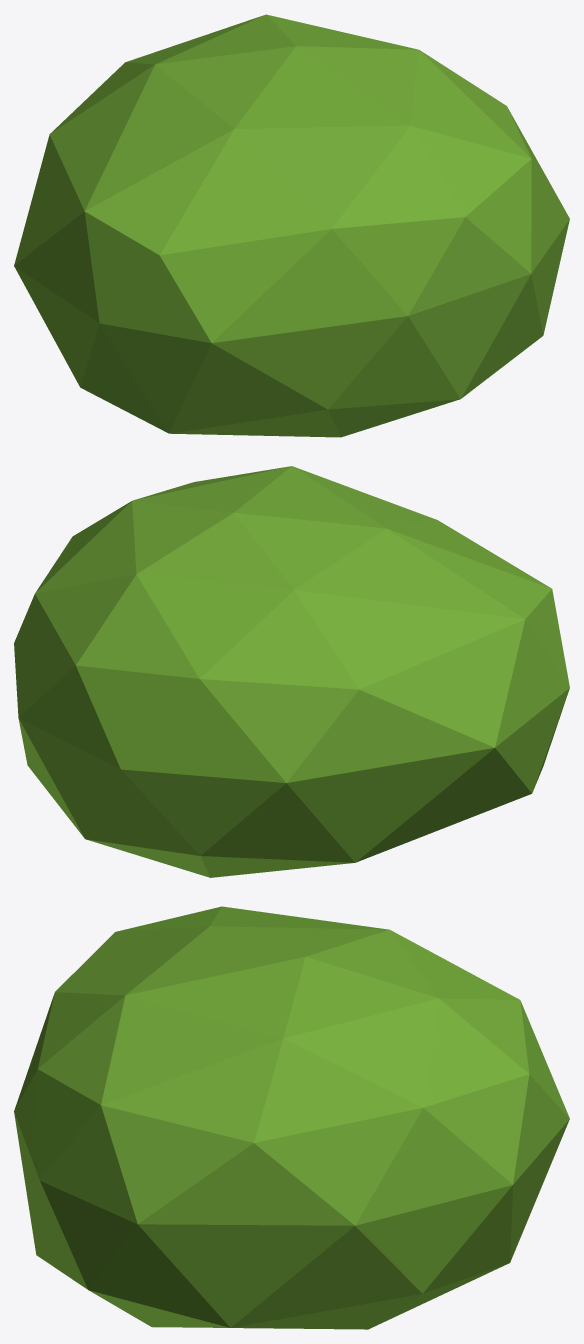
The model's file is Krosnja_02.fbx.
3 views of the same model, one above another, from view 1: azimuth 30°, elevation 25°; view 2: azimuth 150°, elevation 25°; view 3: azimuth 270°, elevation 25° (orthographic). The views are drawn at different scales.
Visible parts, largest first — view 1: Krosnja_02; view 2: Krosnja_02; view 3: Krosnja_02.
Part boxes in pixels (x1,y1,x2,y2): Krosnja_02: (14,14,569,437); Krosnja_02: (14,466,569,877); Krosnja_02: (14,906,569,1329).
Bounding box in the file's own units: 116 × 78.05 × 114.
